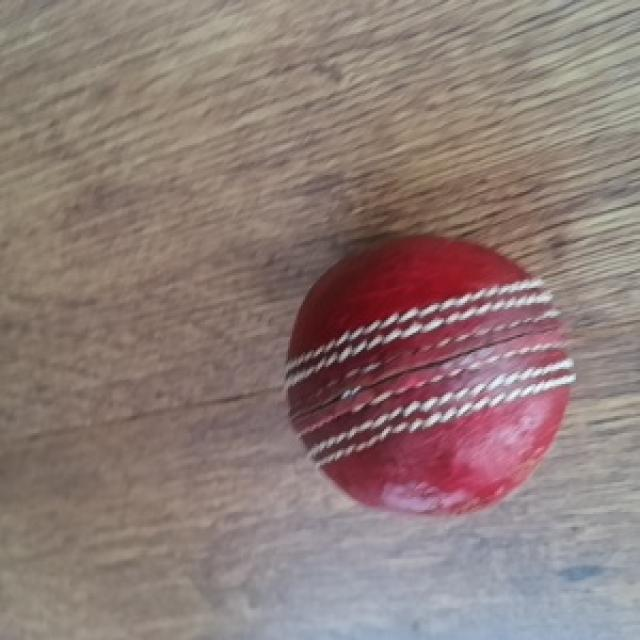ball: (302, 224, 572, 516)
